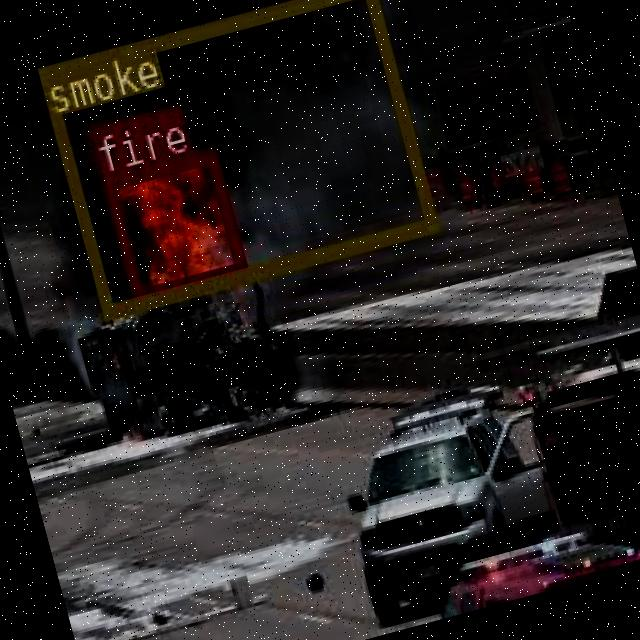fire: (100, 145, 246, 302)
smoke: (35, 0, 435, 316)
